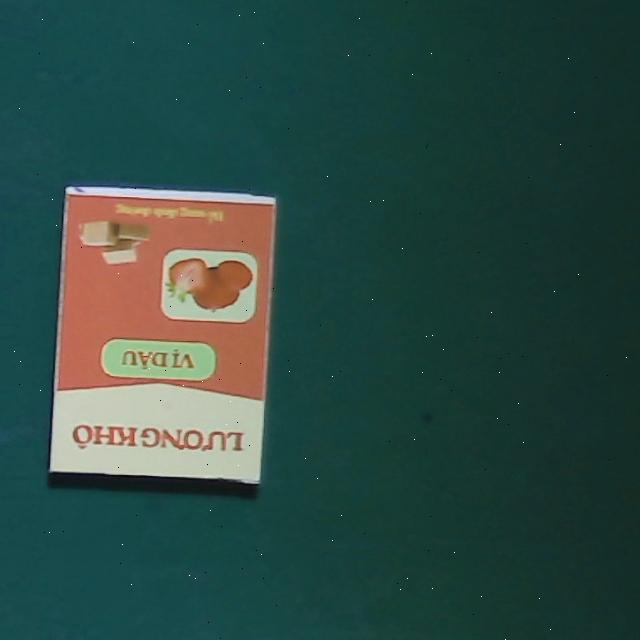dau: (47, 183, 275, 484)
